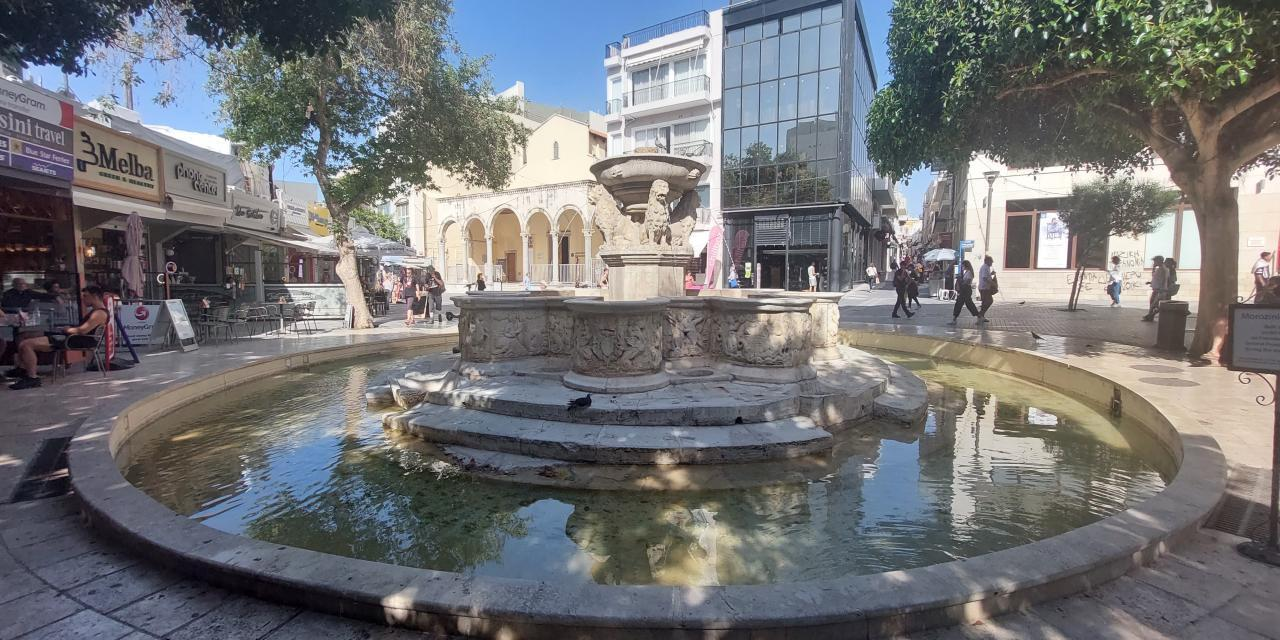Liontaria: (458, 158, 847, 378)
